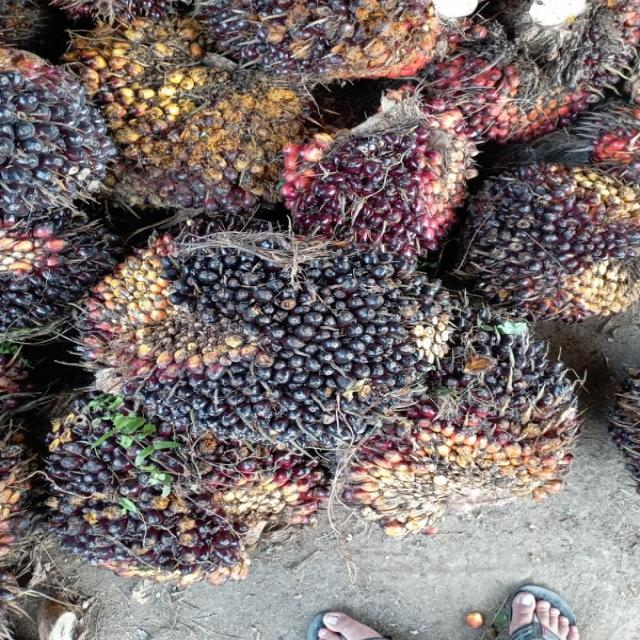fraksi 00: (91, 234, 468, 454), (332, 291, 593, 530), (38, 404, 300, 580), (460, 165, 640, 320)
fraksi 1: (294, 96, 472, 276)
